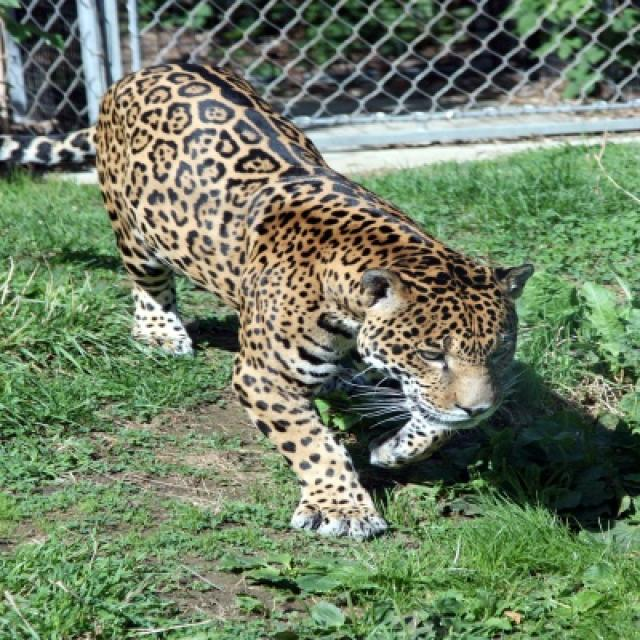Jaguar: (93, 61, 534, 544)
